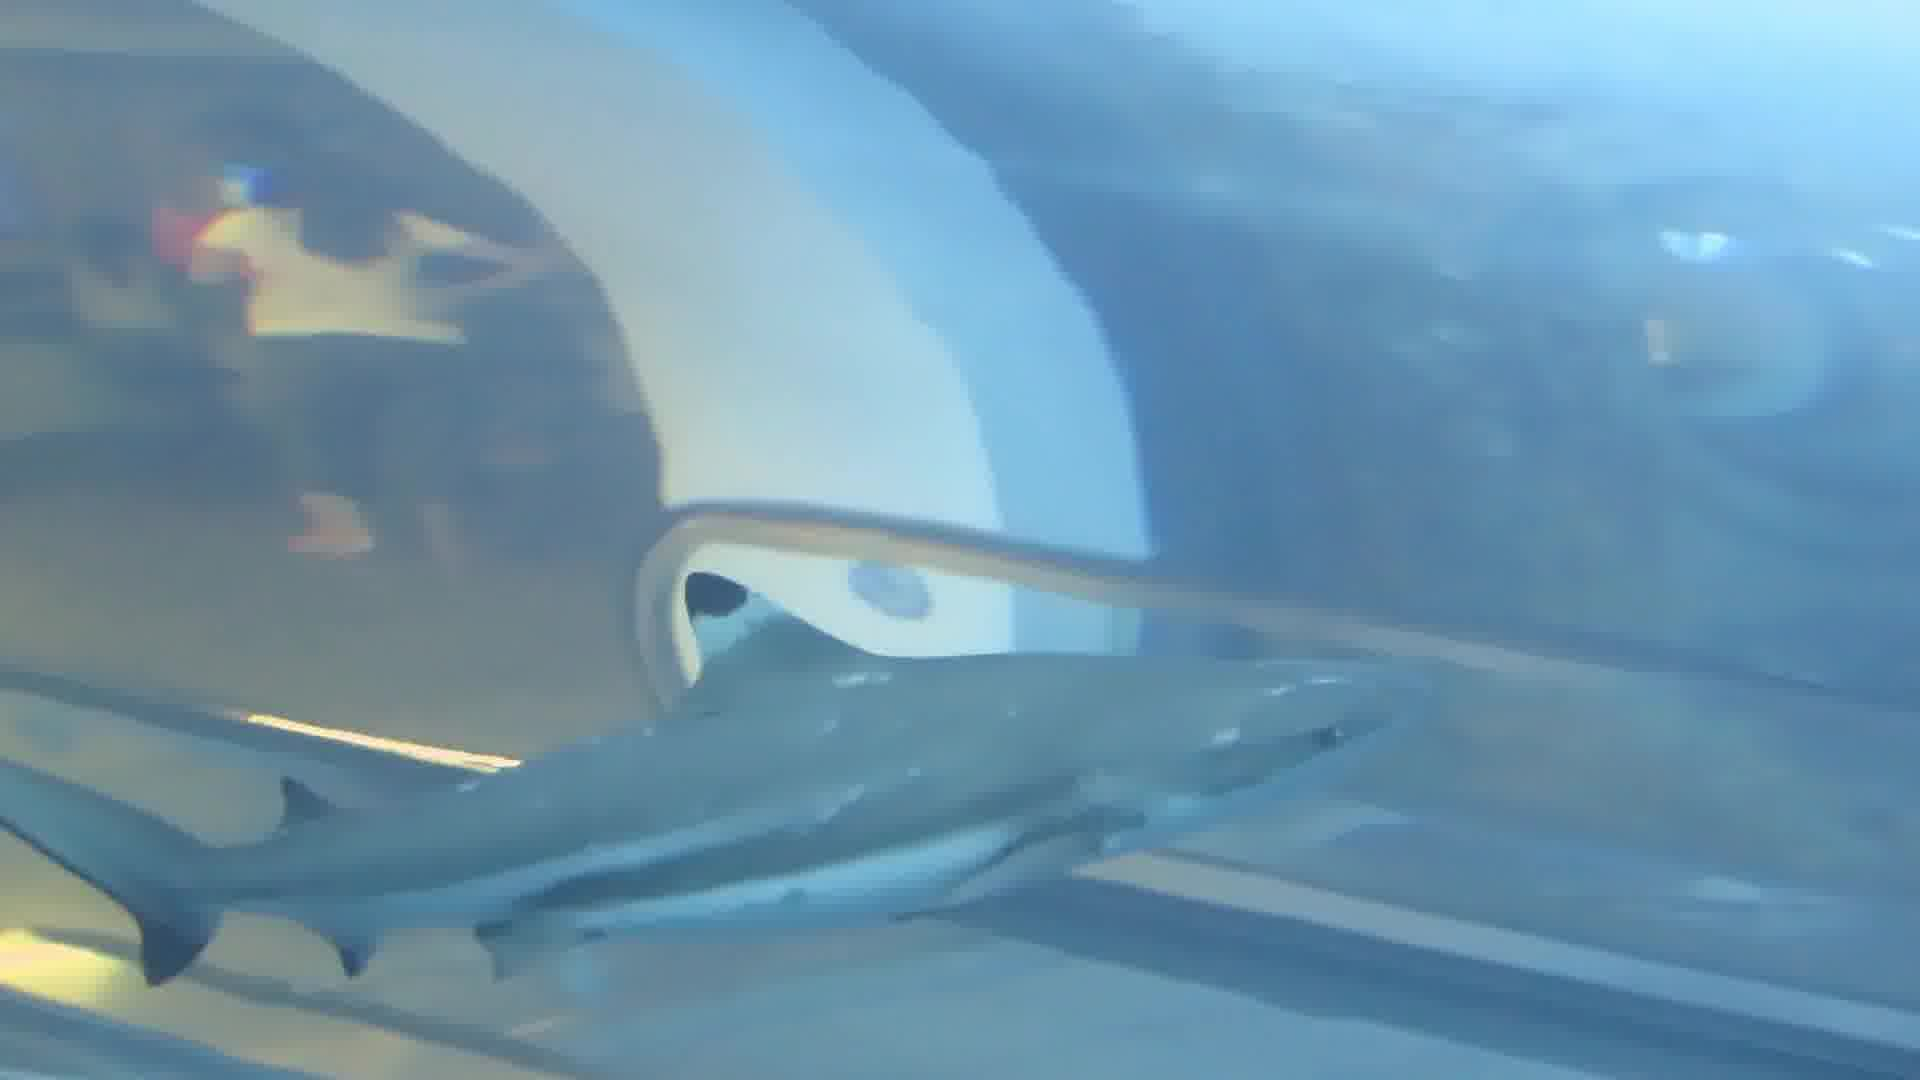Carcharhinus melanopterus: (1, 560, 1451, 1010)
